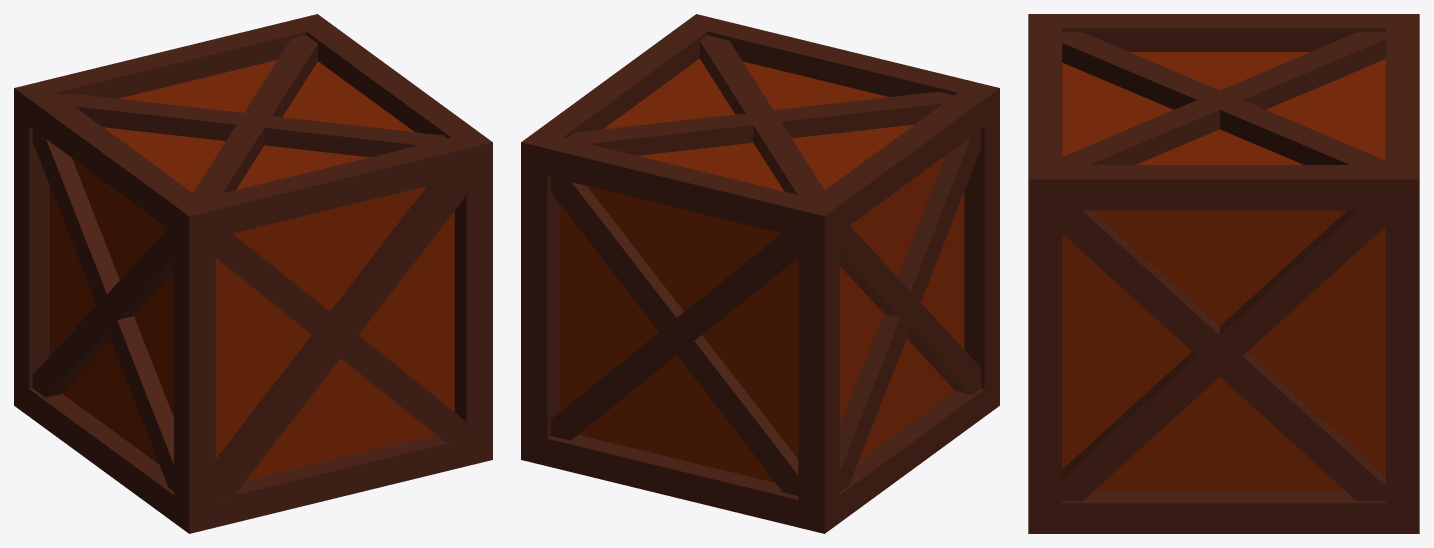
3 renders of one model, left to right at view 1: azimuth 30°, elevation 25°; view 2: azimuth 150°, elevation 25°; view 3: azimuth 270°, elevation 25°, orthographic. The views are drawn at different scales.
Parts seen in each view (by area): view 1: Cube.006; view 2: Cube.006; view 3: Cube.006.
Part boxes in pixels (left/top/right/bottom): Cube.006: left=14, top=14, right=492, bottom=533; Cube.006: left=521, top=14, right=999, bottom=533; Cube.006: left=1028, top=14, right=1419, bottom=533.
Size of the model in its own units: 60 by 60 by 60.
